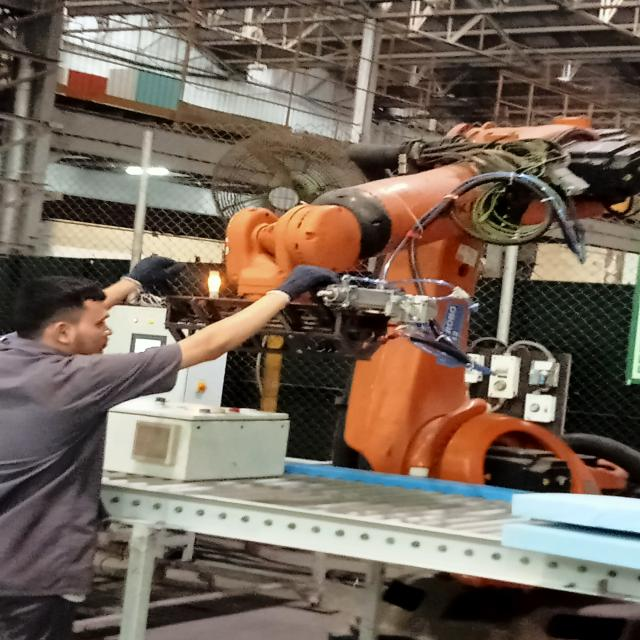Gloves-Detection: (270, 266, 330, 300), (122, 250, 168, 289)
